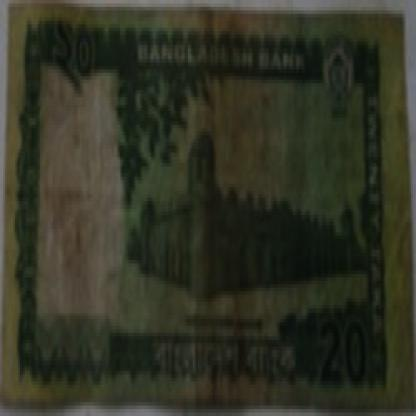Twenty: (318, 319, 373, 402), (52, 21, 103, 97)
